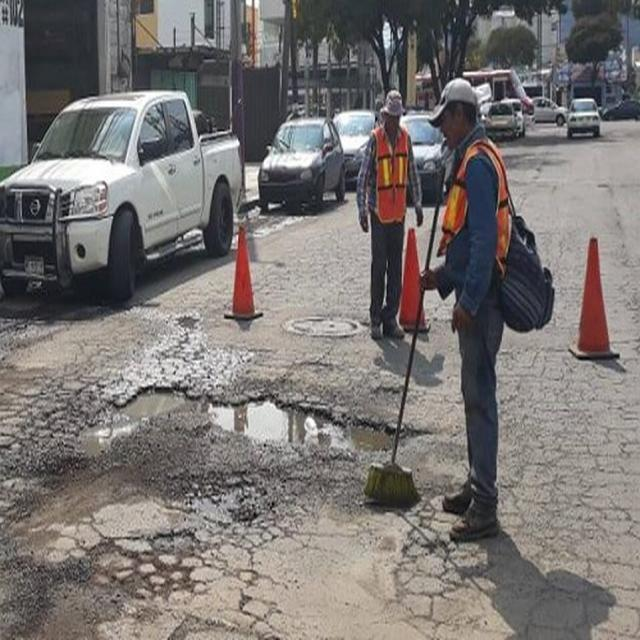Buraco: (67, 379, 440, 464)
